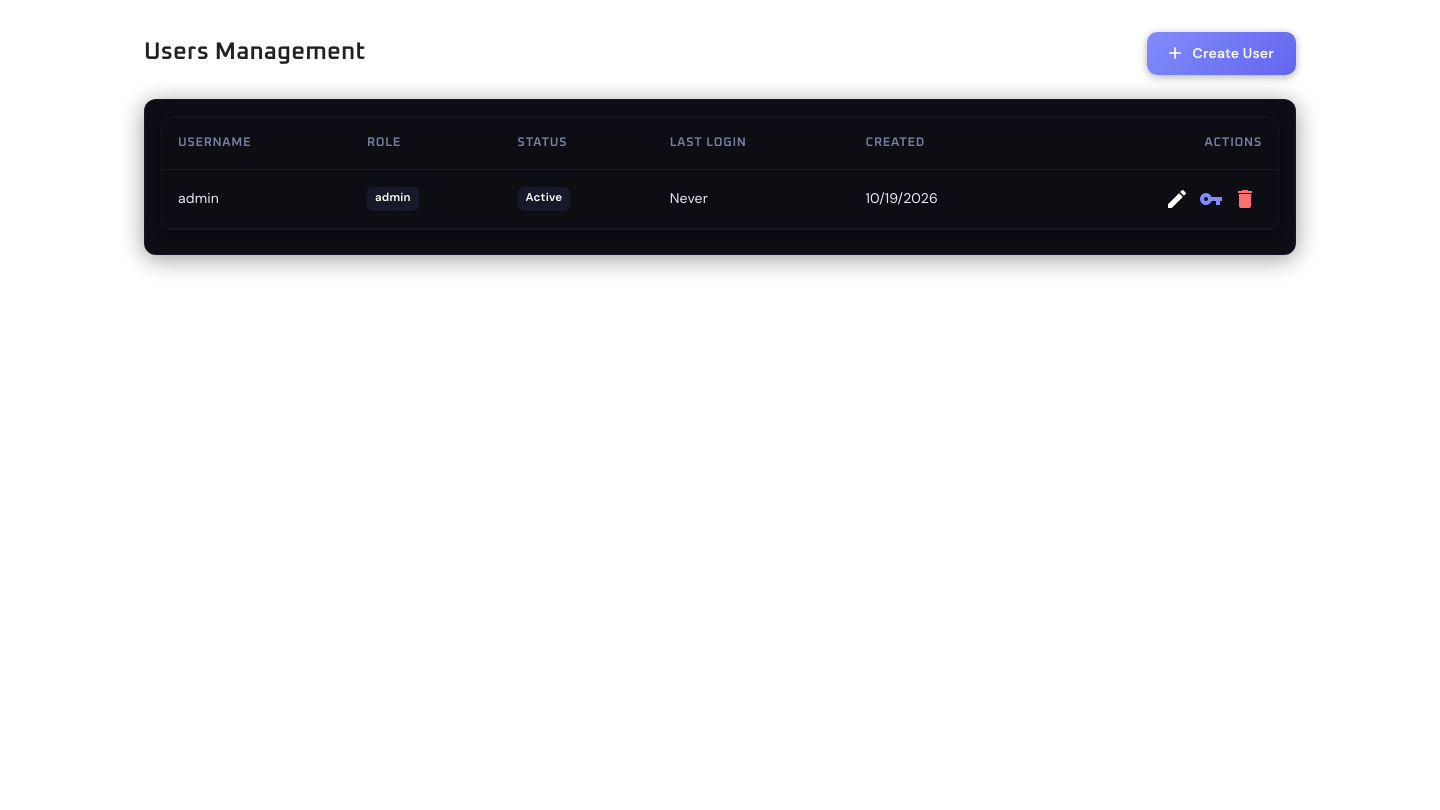
Scenario: Users page › closes delete dialog on cancel
Click the button named "Delete User": [1245, 198] box [1228,182,1262,216]
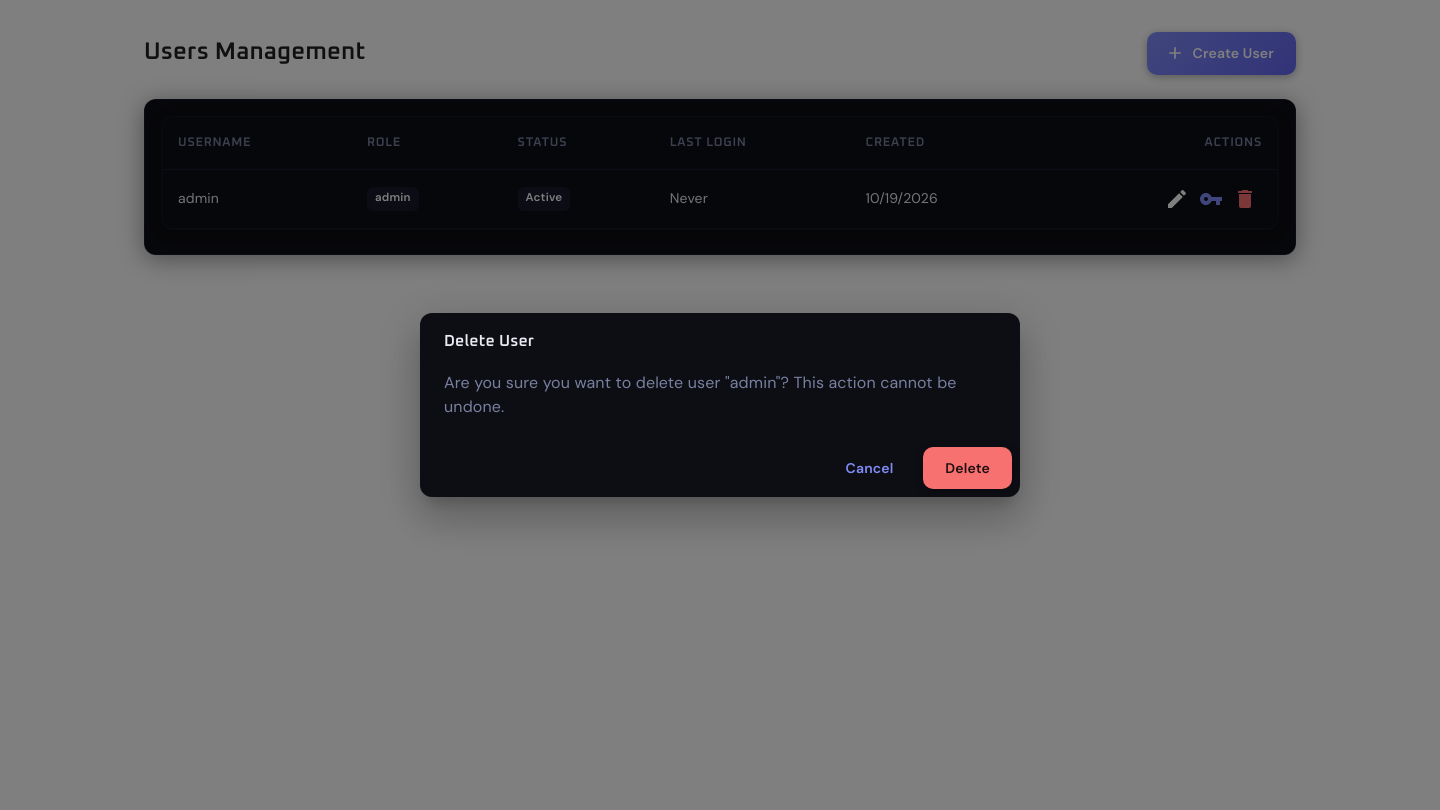
Click the button "Cancel": [870, 468] box [824,446,915,489]
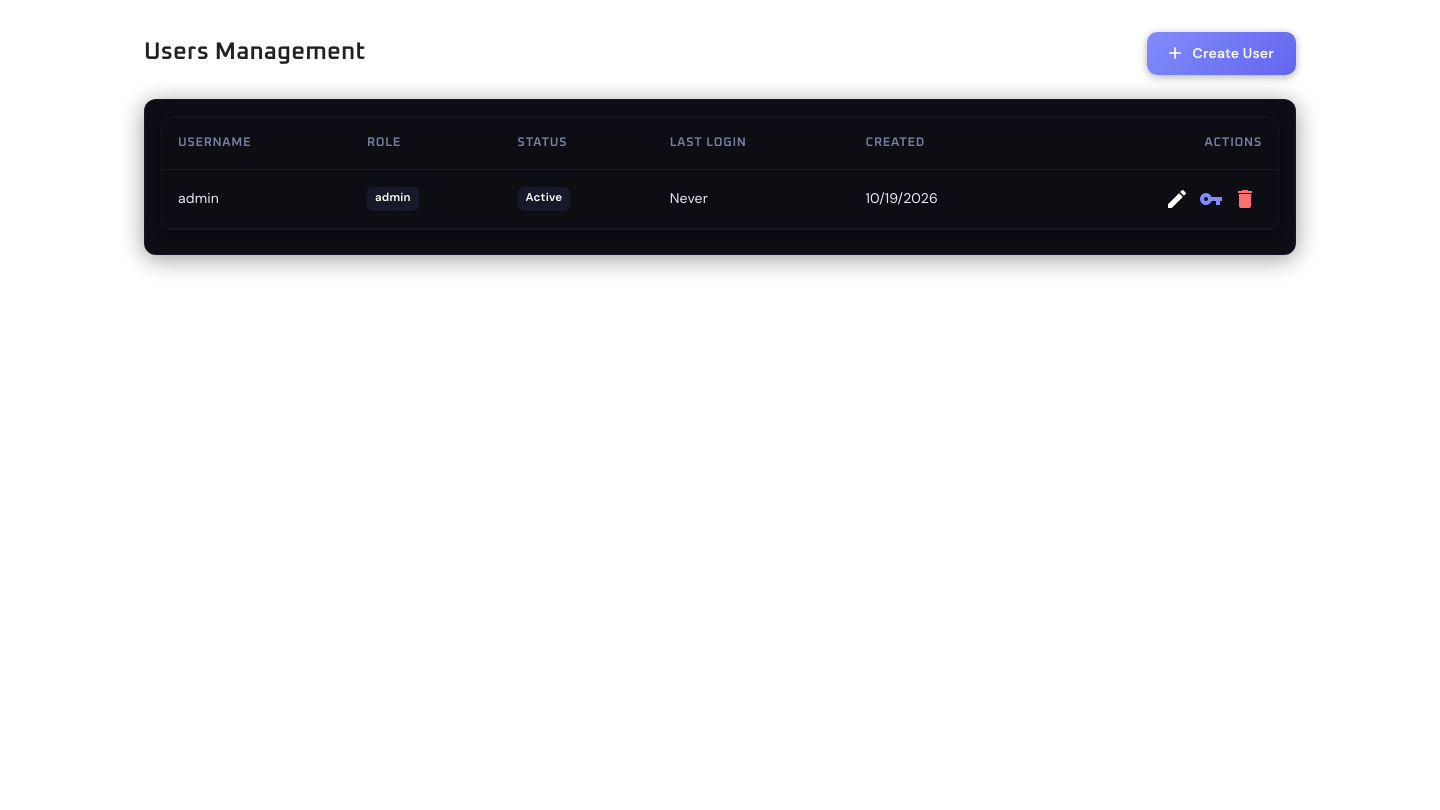
Expected: no buttons "Delete" are shown
